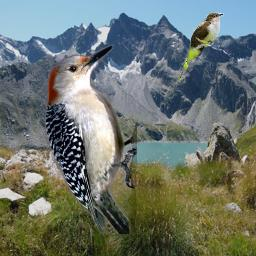Cuckoo: (177, 12, 224, 82)
Woodpecker: (45, 45, 137, 234)
